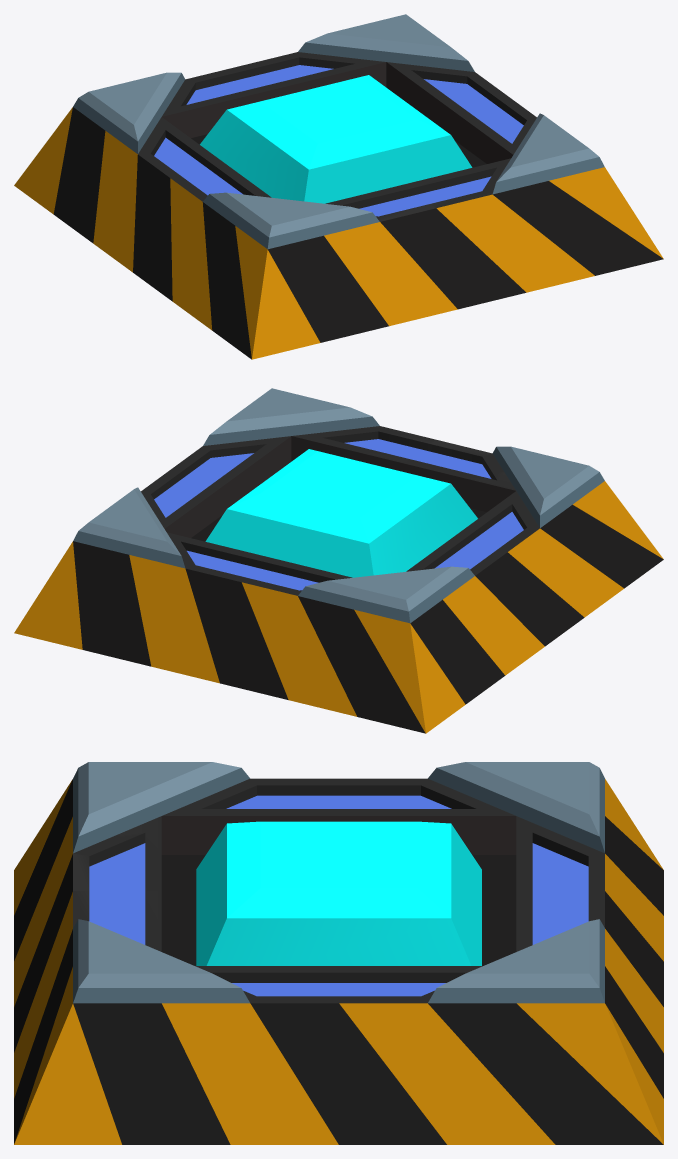
The model's file is Blue_SciFi_Button.glb.
3 views of the same model, one above another, from view 1: azimuth 30°, elevation 25°; view 2: azimuth 150°, elevation 25°; view 3: azimuth 270°, elevation 25° (orthographic). The views are drawn at different scales.
Visible parts, largest first — view 1: ButtonBlue_Base, ButtonBlue; view 2: ButtonBlue_Base, ButtonBlue; view 3: ButtonBlue_Base, ButtonBlue.
Boxes of the visible parts, <box> form: ButtonBlue_Base: <box>14,14,663,359</box>; ButtonBlue: <box>200,75,472,203</box>; ButtonBlue_Base: <box>14,388,663,733</box>; ButtonBlue: <box>205,449,477,577</box>; ButtonBlue_Base: <box>14,762,663,1144</box>; ButtonBlue: <box>196,821,481,965</box>.
Size of what is drawn, in the model's own units: 0.6235 by 0.1618 by 0.6235.
1 material, 1 textured.
